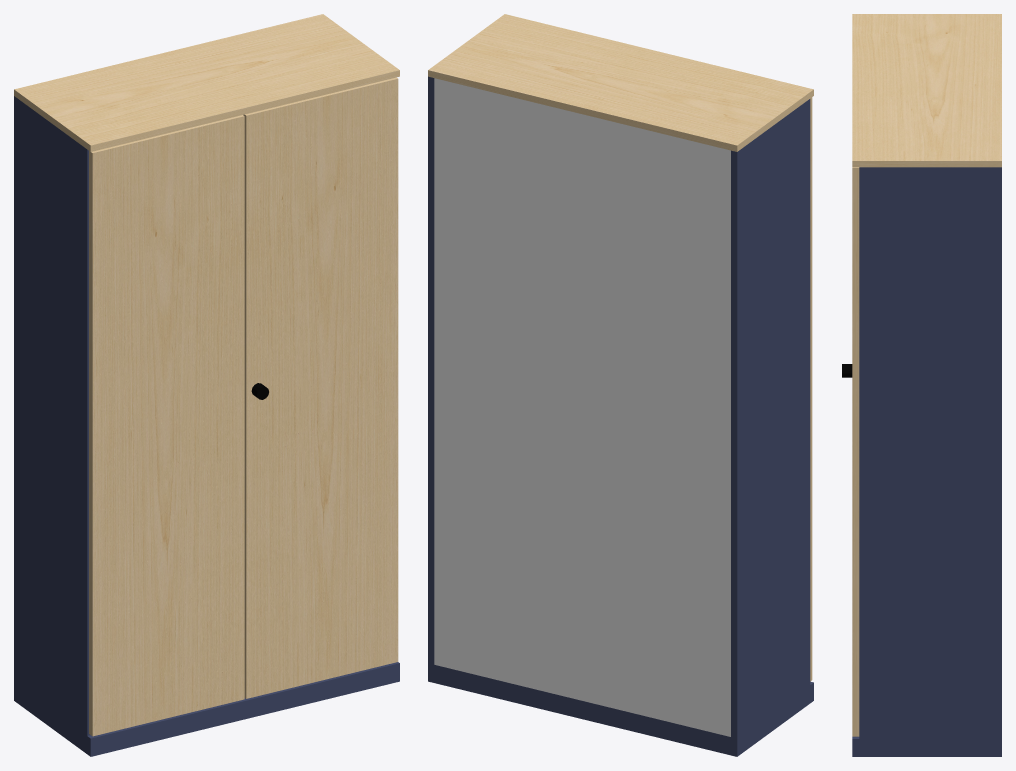
File: cabinet.glb
The picture shows the model from 3 angles, left to right: view 1: azimuth 30°, elevation 25°; view 2: azimuth 150°, elevation 25°; view 3: azimuth 270°, elevation 25°; orthographic projection. The views are drawn at different scales.
Visible parts, largest first — view 1: door_left, door_right, cabinet; view 2: cabinet, door_left; view 3: cabinet, door_right.
Boxes of the visible parts, x1,y1,x2,y2 form: door_left: (89,115,244,736); door_right: (243,77,398,698); cabinet: (14,14,399,756); cabinet: (428,14,813,756); door_left: (810,97,812,681); cabinet: (852,14,1001,756); door_right: (852,167,859,736).
Bounding box in the file's own units: 1 × 1.89 × 0.4597.
Materials: 1 (1 with a texture image).
